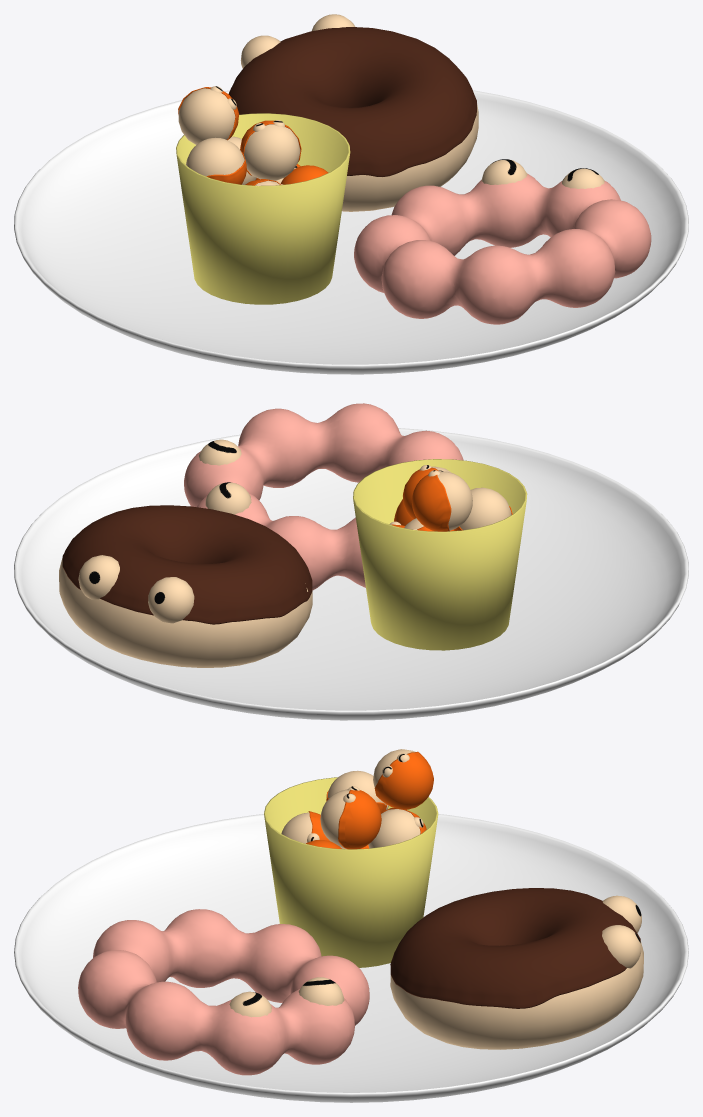
File: donut.glb
3 renders of one model, top to bottom at view 1: azimuth 30°, elevation 25°; view 2: azimuth 150°, elevation 25°; view 3: azimuth 270°, elevation 25°, orthographic.
Parts seen in each view (by area): view 1: メタボール.003, トーラス.001; view 2: メタボール.003, トーラス.001; view 3: メタボール.003, トーラス.001.
Boxes of the visible parts, box(x1,y1,x2,y2) form: メタボール.003: box(14, 27, 688, 374); トーラス.001: box(240, 14, 355, 68); メタボール.003: box(14, 403, 688, 720); トーラス.001: box(78, 555, 194, 623); メタボール.003: box(14, 749, 688, 1102); トーラス.001: box(602, 895, 641, 968).
Bounding box in the file's own units: 11.12 × 3.58 × 11.12.
Materials: 8 (2 with a texture image).
